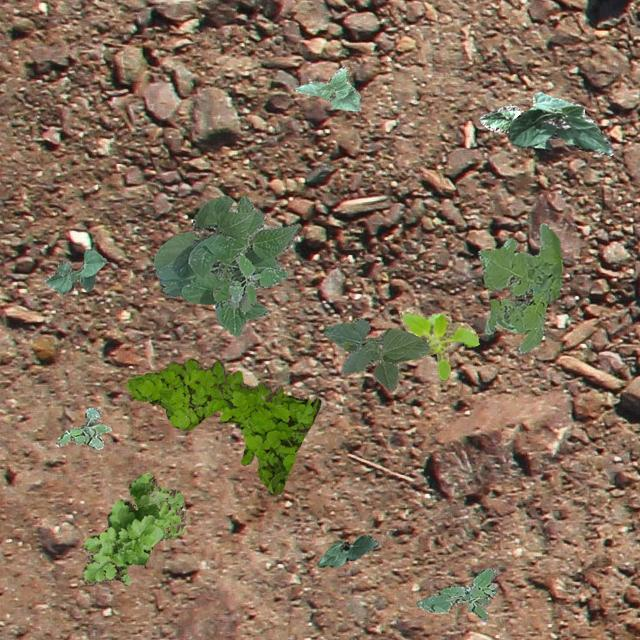crop: (152, 194, 298, 334), (322, 318, 428, 390), (508, 92, 612, 154), (478, 102, 550, 150), (294, 66, 361, 110), (42, 248, 106, 294), (316, 534, 378, 566)
weed: (124, 357, 320, 492), (82, 472, 185, 584), (476, 222, 562, 352), (398, 307, 478, 378), (416, 568, 496, 620), (228, 252, 286, 312), (54, 406, 110, 448)
